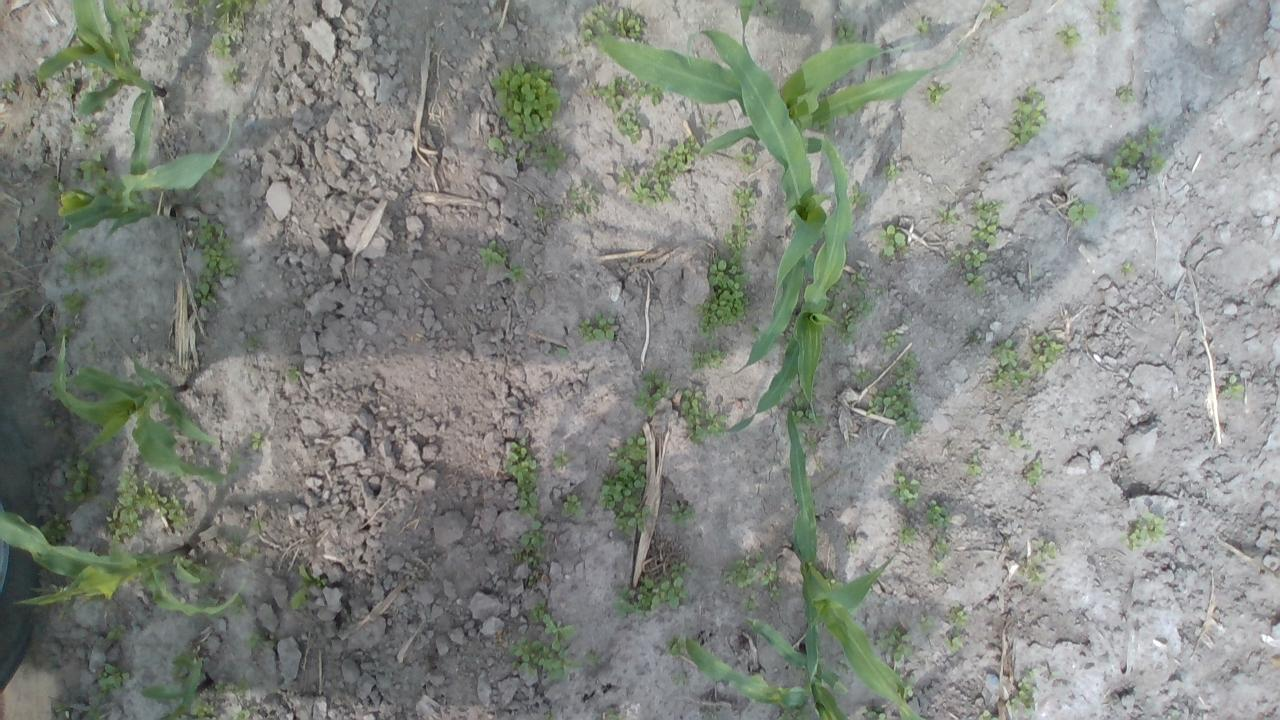Maize: (700, 27, 835, 374), (782, 409, 932, 720), (594, 25, 961, 150), (720, 132, 856, 440), (54, 85, 236, 243), (0, 505, 245, 620), (55, 334, 227, 485), (682, 616, 848, 720), (36, 0, 168, 113), (140, 650, 216, 720), (736, 0, 777, 69)
Weeds: (490, 61, 562, 145), (96, 467, 164, 545), (600, 433, 650, 536), (629, 136, 701, 207), (693, 256, 752, 337), (822, 278, 882, 347), (614, 564, 688, 618), (507, 636, 584, 684), (578, 2, 646, 48), (194, 215, 241, 279), (871, 378, 923, 434), (505, 437, 541, 516), (678, 389, 729, 444), (1005, 85, 1046, 147), (1104, 137, 1146, 197), (1116, 510, 1164, 552), (631, 373, 674, 419), (584, 76, 634, 114), (62, 453, 98, 505), (968, 197, 1003, 247), (718, 552, 764, 590), (289, 564, 326, 610), (1028, 334, 1066, 378), (574, 308, 620, 344), (790, 382, 826, 428), (512, 520, 546, 568), (1006, 669, 1038, 714), (877, 622, 912, 663), (116, 0, 149, 43), (691, 336, 728, 374), (180, 556, 220, 590), (94, 662, 131, 698), (528, 142, 567, 176), (68, 151, 110, 182), (212, 15, 242, 58), (174, 0, 254, 16), (890, 470, 921, 511), (719, 218, 752, 256), (63, 255, 113, 280), (542, 613, 574, 651), (160, 494, 192, 530), (564, 184, 600, 216), (876, 223, 906, 258), (168, 651, 198, 686), (38, 513, 70, 545), (478, 240, 512, 270), (1095, 0, 1124, 34), (1065, 198, 1097, 228), (1052, 22, 1082, 54), (992, 368, 1030, 392), (732, 184, 758, 219), (989, 337, 1019, 367), (614, 111, 642, 143), (894, 351, 919, 385), (1218, 372, 1246, 402), (190, 276, 218, 306), (630, 80, 662, 105), (924, 500, 950, 530), (60, 289, 87, 316), (55, 322, 81, 350), (834, 15, 858, 45), (924, 80, 950, 107), (1028, 535, 1054, 562), (999, 429, 1030, 451), (669, 501, 696, 526), (846, 183, 871, 209), (558, 494, 585, 518), (1024, 458, 1046, 487), (55, 226, 79, 252), (879, 328, 905, 352), (880, 158, 906, 181), (1019, 558, 1042, 584), (775, 703, 809, 720), (964, 271, 988, 295), (733, 150, 757, 174), (962, 246, 987, 268), (756, 0, 786, 18), (241, 630, 268, 650), (1144, 153, 1168, 175), (78, 120, 99, 144), (760, 562, 780, 587), (44, 178, 66, 200), (486, 136, 508, 158), (204, 159, 225, 181), (986, 0, 1009, 20), (524, 599, 544, 622), (1142, 124, 1161, 148), (505, 263, 529, 282), (106, 623, 130, 642), (948, 606, 969, 627), (942, 634, 962, 656), (930, 536, 950, 557), (936, 206, 958, 225), (896, 526, 918, 545), (666, 637, 688, 656), (614, 164, 632, 186), (961, 458, 982, 476), (911, 15, 930, 34), (85, 62, 104, 81), (58, 600, 78, 618), (849, 272, 869, 290), (84, 704, 106, 720), (927, 558, 945, 577), (222, 64, 240, 83), (552, 450, 570, 469), (798, 433, 818, 450), (1116, 86, 1137, 102), (232, 705, 254, 720), (864, 706, 887, 720), (740, 594, 757, 612), (854, 368, 873, 384), (919, 614, 934, 634), (232, 680, 250, 696), (704, 117, 720, 134), (0, 78, 18, 93), (84, 335, 98, 354), (248, 546, 264, 562), (768, 584, 784, 600), (530, 206, 546, 222), (1119, 261, 1136, 276), (212, 677, 224, 698), (242, 334, 263, 346), (227, 453, 240, 472), (61, 78, 76, 94), (286, 367, 300, 384), (671, 672, 688, 686), (946, 250, 960, 266), (510, 149, 527, 162), (978, 709, 998, 720), (250, 432, 262, 450), (40, 415, 56, 428), (845, 536, 857, 552), (558, 346, 570, 361), (585, 654, 600, 664), (90, 288, 104, 295), (544, 713, 558, 720), (606, 712, 618, 720)
